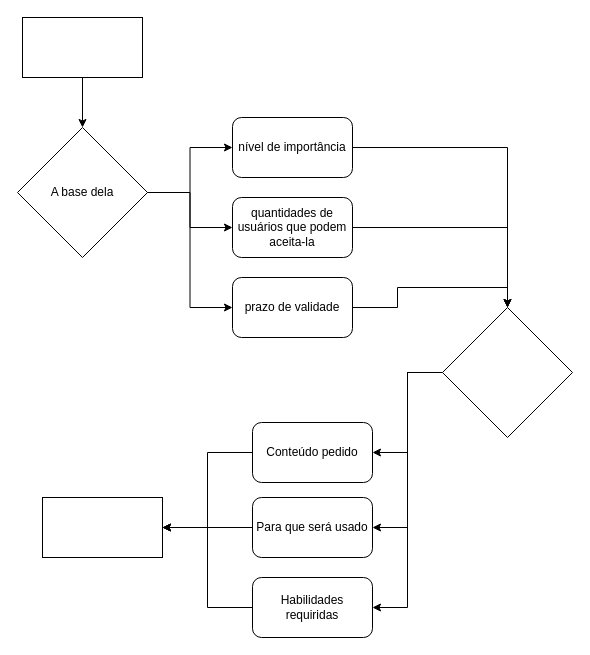
This 590x655 diagram has some shape labels left out. Each missing label, with the centre of its shape:
criar uma tarefa: (x=82, y=47)
Detalhes dela: (x=507, y=372)
output do usuário que aceitou a tarefa: (x=102, y=527)
